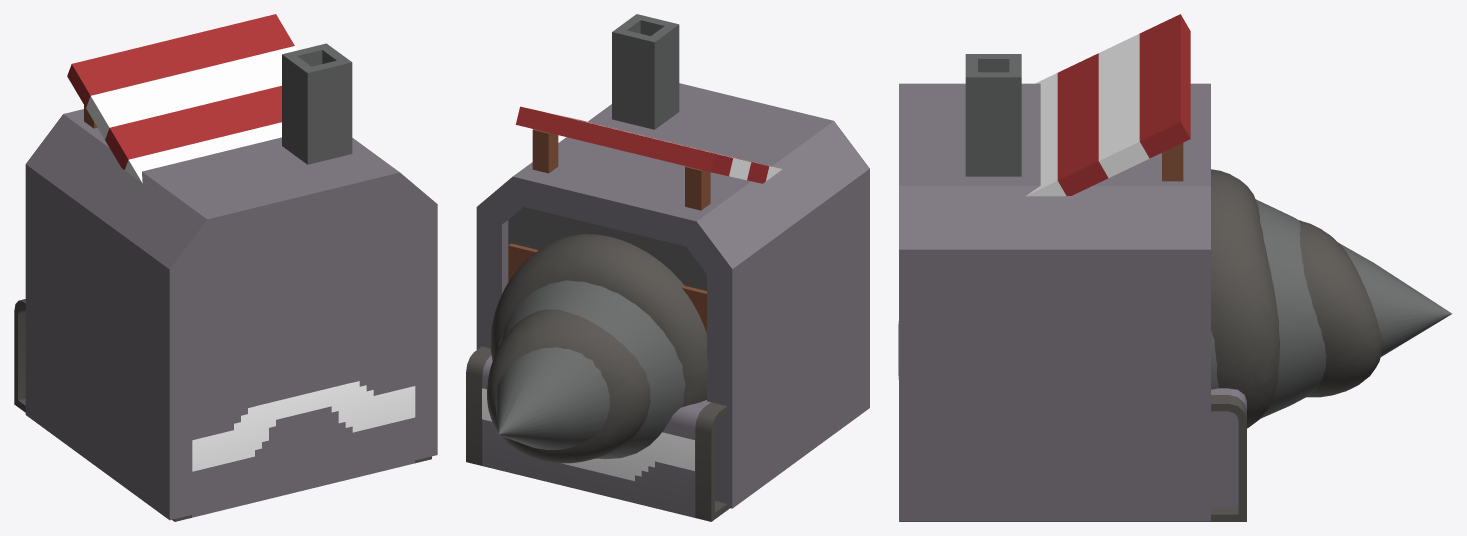
File: Conveyor.fbx
3 renders of one model, left to right at view 1: azimuth 30°, elevation 25°; view 2: azimuth 150°, elevation 25°; view 3: azimuth 270°, elevation 25°, orthographic. The views are drawn at different scales.
Visible parts, largest first — view 1: Drill, Market, ConveyorAnimation, Conveyor; view 2: Drill, Conveyor, Market, ConveyorAnimation, Crate; view 3: Drill, Market, Conveyor.
Part boxes in pixels (left/top/right/bottom): Drill: left=25, top=43, right=437, bottom=520; Market: left=67, top=14, right=297, bottom=182; ConveyorAnimation: left=192, top=381, right=415, bottom=471; Conveyor: left=14, top=299, right=431, bottom=521; Drill: left=476, top=14, right=869, bottom=508; Conveyor: left=466, top=346, right=729, bottom=521; Market: left=516, top=106, right=782, bottom=210; ConveyorAnimation: left=482, top=388, right=694, bottom=481; Crate: left=508, top=243, right=706, bottom=333; Drill: left=899, top=54, right=1452, bottom=521; Market: left=1026, top=14, right=1190, bottom=196; Conveyor: left=899, top=388, right=1246, bottom=521.
Size of the model in its own units: 193 by 319 by 266.
